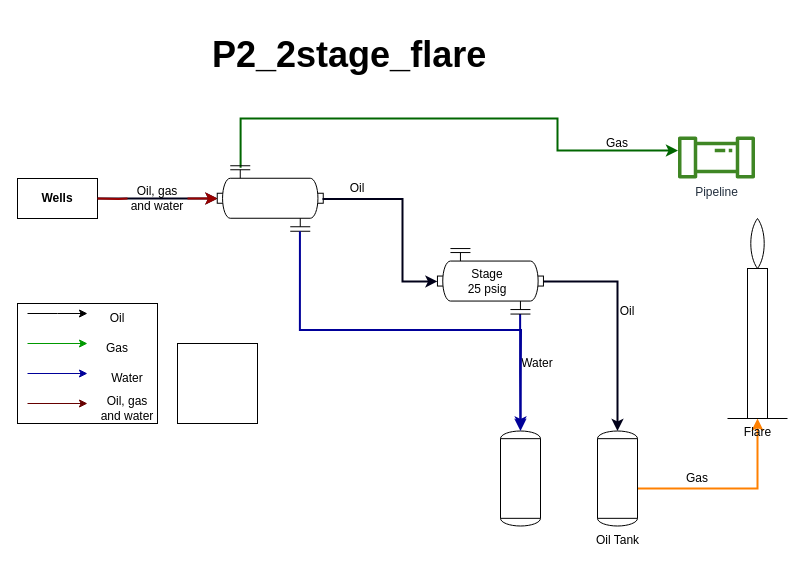
Some shapes in this 805 by 564 pixel diagram are drawn without their labels. Here are the shapes that lost their labels. From the top down, the centre of each, then its label:
[269,198]: Stage 1 200 psig
[217,383]: Both tanks can be controlled too.
[520,478]: Water tank
